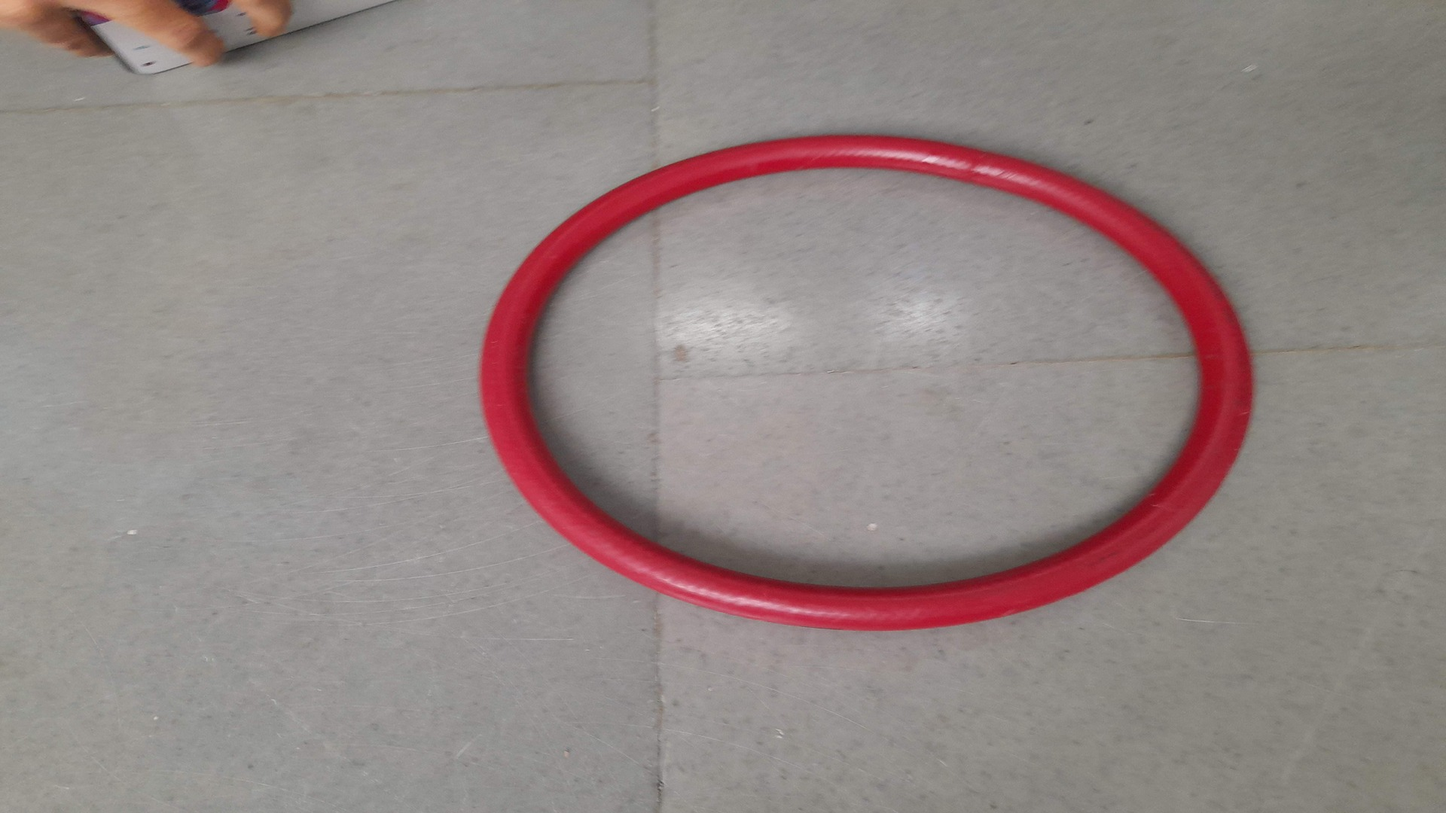Red ring: (481, 138, 1253, 627)
